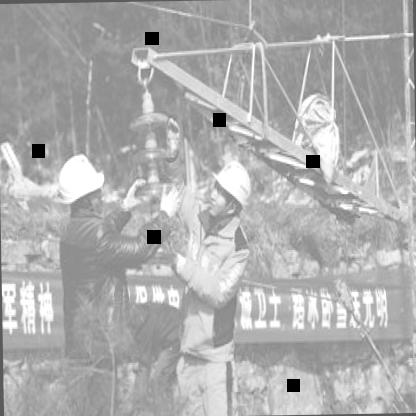helmet: (55, 146, 109, 226), (202, 158, 256, 222)
